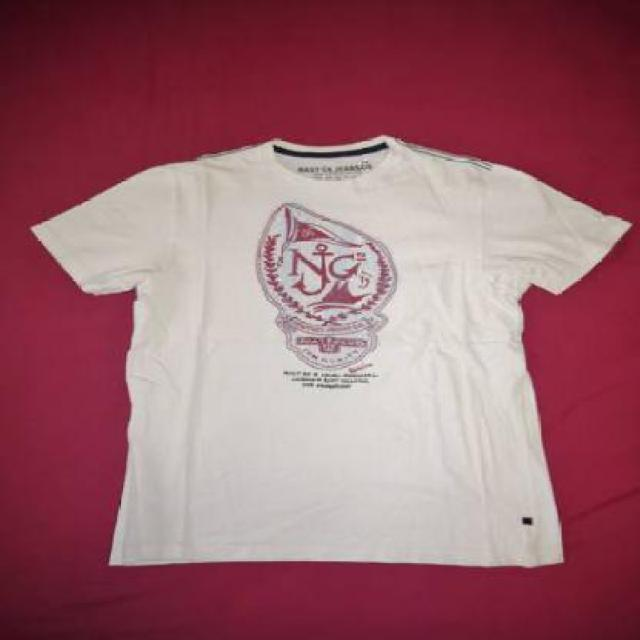shirt: (12, 128, 638, 575)
